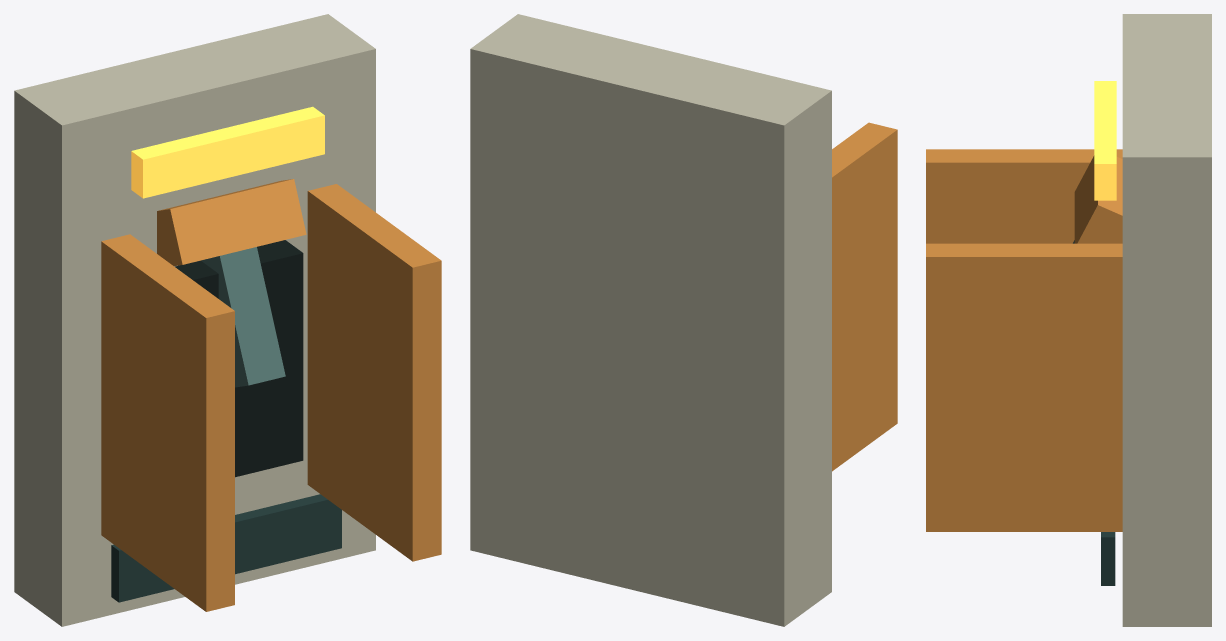
Rendered from emergency_switch.glb.
The picture shows the model from 3 angles, left to right: view 1: azimuth 30°, elevation 25°; view 2: azimuth 150°, elevation 25°; view 3: azimuth 270°, elevation 25°; orthographic projection. The views are drawn at different scales.
Parts seen in each view (by area): view 1: switch_backplate, switch_guard_0.125, switch_guard_-0.125, switch_socket, emergency_locator, lever_grip, switch_blank_label, lever_stem; view 2: switch_backplate, switch_guard_-0.125; view 3: switch_guard_0.125, switch_backplate, switch_guard_-0.125, lever_grip, emergency_locator, switch_blank_label.
Boxes of the visible parts, x1,y1,x2,y2 form: switch_backplate: (14, 14, 375, 626); switch_guard_0.125: (307, 184, 441, 561); switch_guard_-0.125: (101, 234, 234, 611); switch_socket: (175, 240, 303, 477); emergency_locator: (131, 106, 324, 198); lever_grip: (157, 179, 306, 265); switch_blank_label: (111, 494, 341, 602); lever_stem: (201, 247, 285, 387); switch_backplate: (470, 14, 831, 626); switch_guard_-0.125: (832, 122, 897, 471); switch_guard_0.125: (926, 243, 1122, 531); switch_backplate: (1122, 14, 1211, 626); switch_guard_-0.125: (926, 149, 1122, 243); lever_grip: (1074, 155, 1122, 243); emergency_locator: (1094, 81, 1116, 200); switch_blank_label: (1101, 532, 1115, 585).
Bounding box in the file's own units: 0.38 × 0.58 × 0.32.
